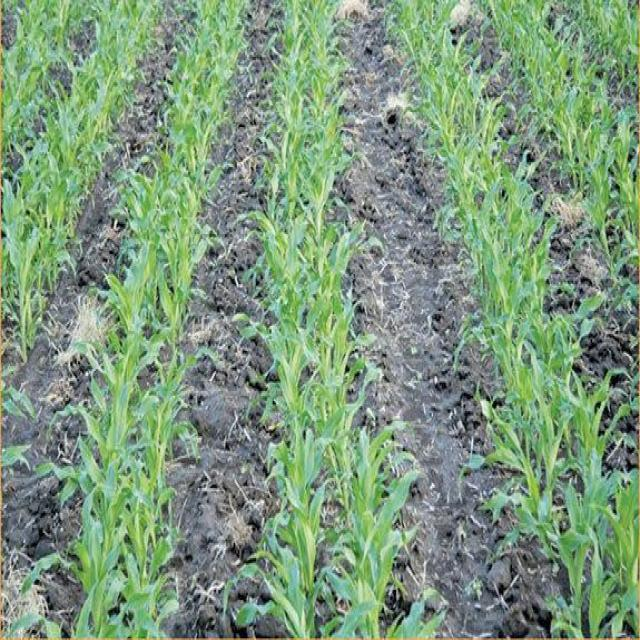row: (335, 1, 578, 640), (0, 3, 203, 638), (444, 0, 640, 516), (157, 1, 286, 640), (0, 4, 117, 214), (535, 0, 640, 161), (0, 2, 29, 56)
